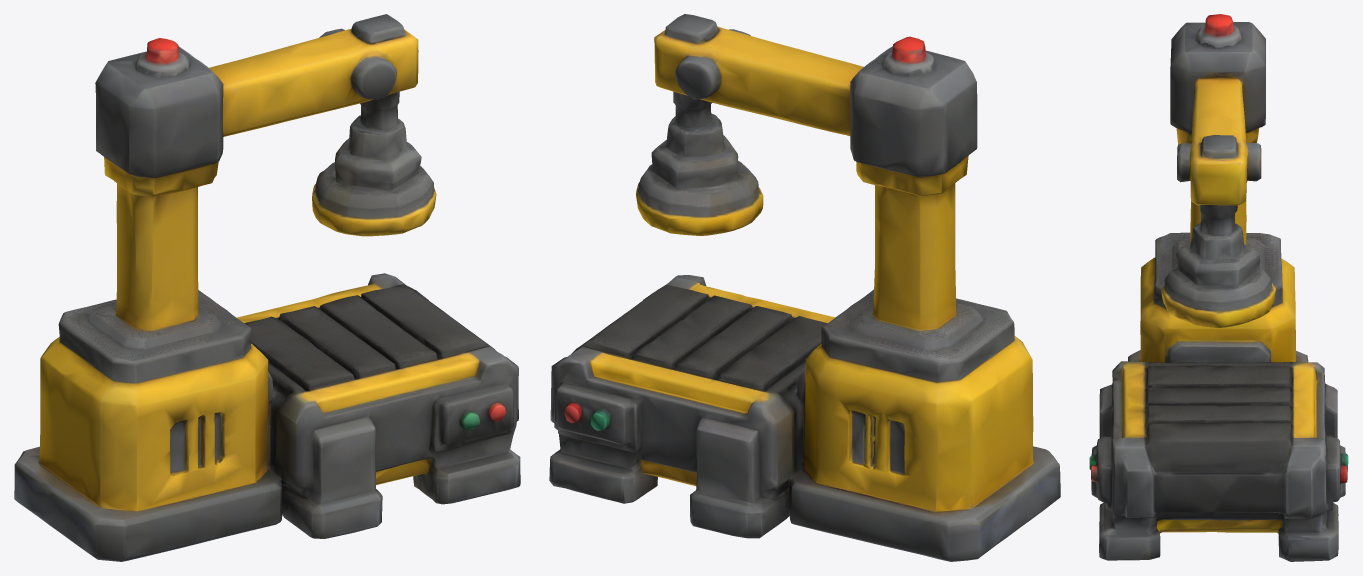
File: Meshy_AI_Grabber_Convenyor_0422181414_texture.fbx
3 views of the same model, side by side, from view 1: azimuth 30°, elevation 25°; view 2: azimuth 150°, elevation 25°; view 3: azimuth 270°, elevation 25° (orthographic). The views are drawn at different scales.
Visible parts, largest first — view 1: Mesh_0; view 2: Mesh_0; view 3: Mesh_0.
Boxes of the visible parts, left/top/right/bottom form: Mesh_0: left=14, top=14, right=520, bottom=561; Mesh_0: left=549, top=14, right=1060, bottom=561; Mesh_0: left=1089, top=14, right=1348, bottom=561.
Bounding box in the file's own units: 186 × 200 × 113.
Materials: 1 (1 with a texture image).
